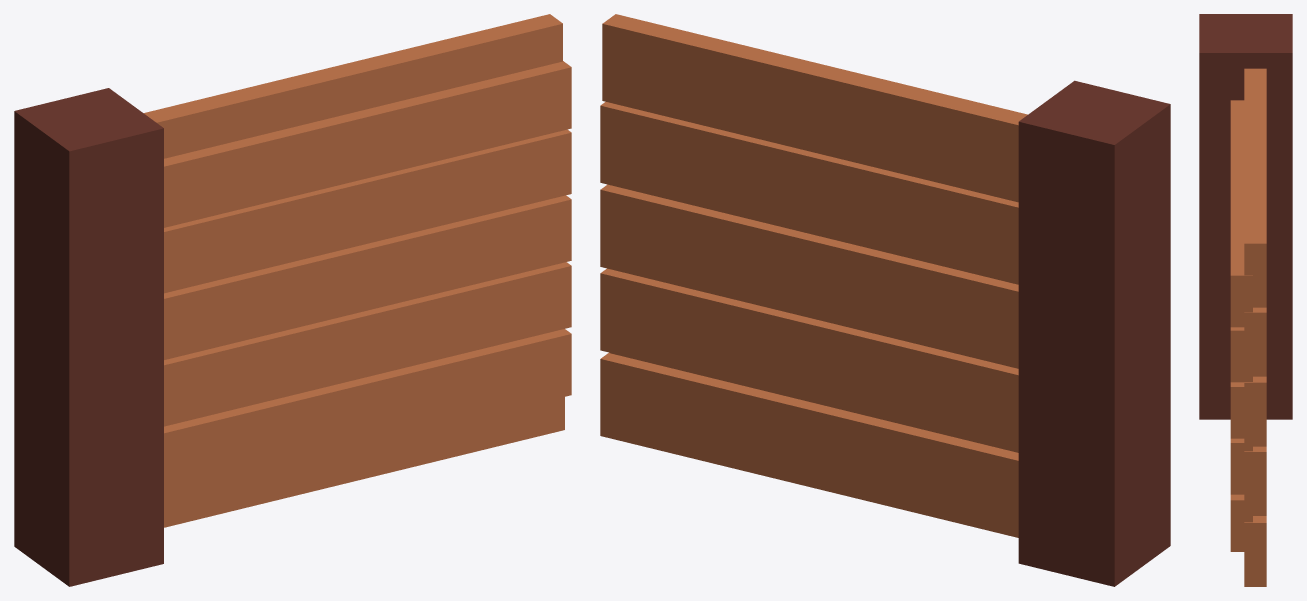
The picture shows the model from 3 angles, left to right: view 1: azimuth 30°, elevation 25°; view 2: azimuth 150°, elevation 25°; view 3: azimuth 270°, elevation 25°; orthographic projection. The views are drawn at different scales.
Visible parts, largest first — view 1: WoodenWall; view 2: WoodenWall; view 3: WoodenWall.
Boxes of the visible parts, x1,y1,x2,y2 form: WoodenWall: [14, 14, 571, 586]; WoodenWall: [600, 14, 1170, 586]; WoodenWall: [1199, 14, 1292, 586].
Size of the model in its own units: 7.8 by 6.21 by 1.43.
